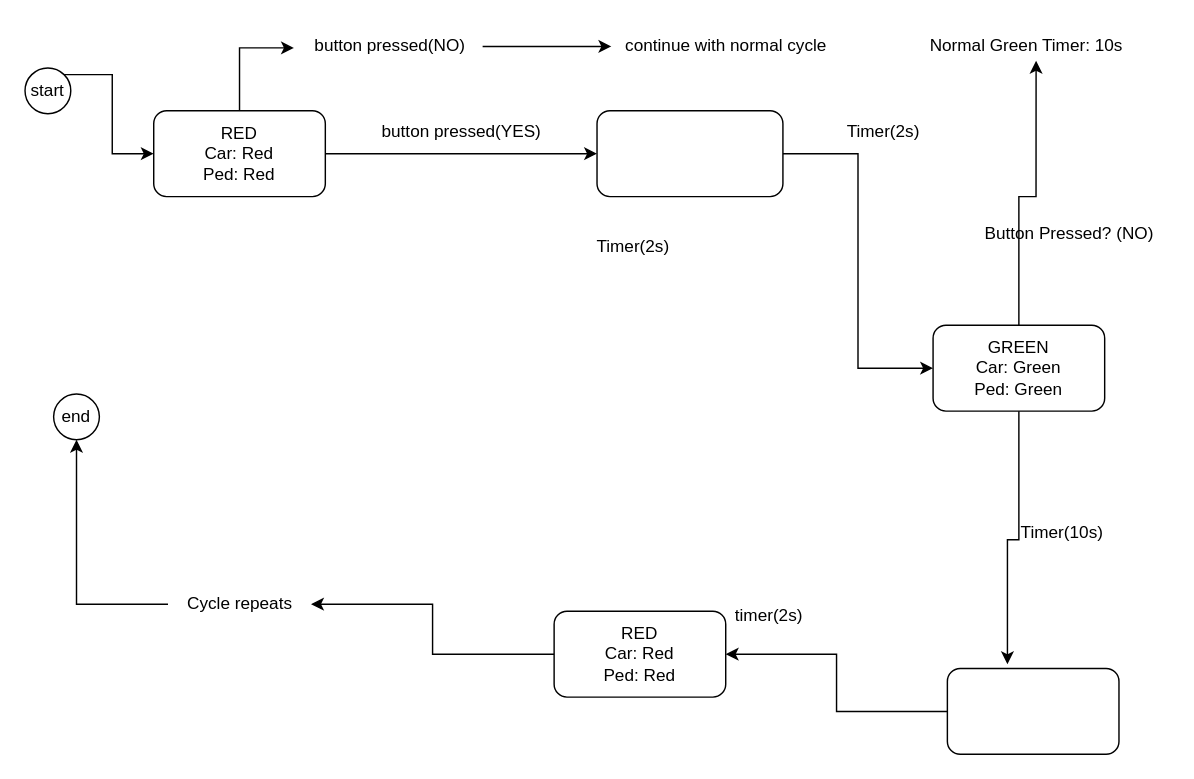
Image size: 1194x779. Some labels were removed from this diagram. Each missing label, with the centre of its shape:
YELLOW_TO_GREEN Car: Yellow Ped: Red: pixel 689 153
YELLOW_TO_RED Car: Yellow Ped: Green: pixel 1032 710
